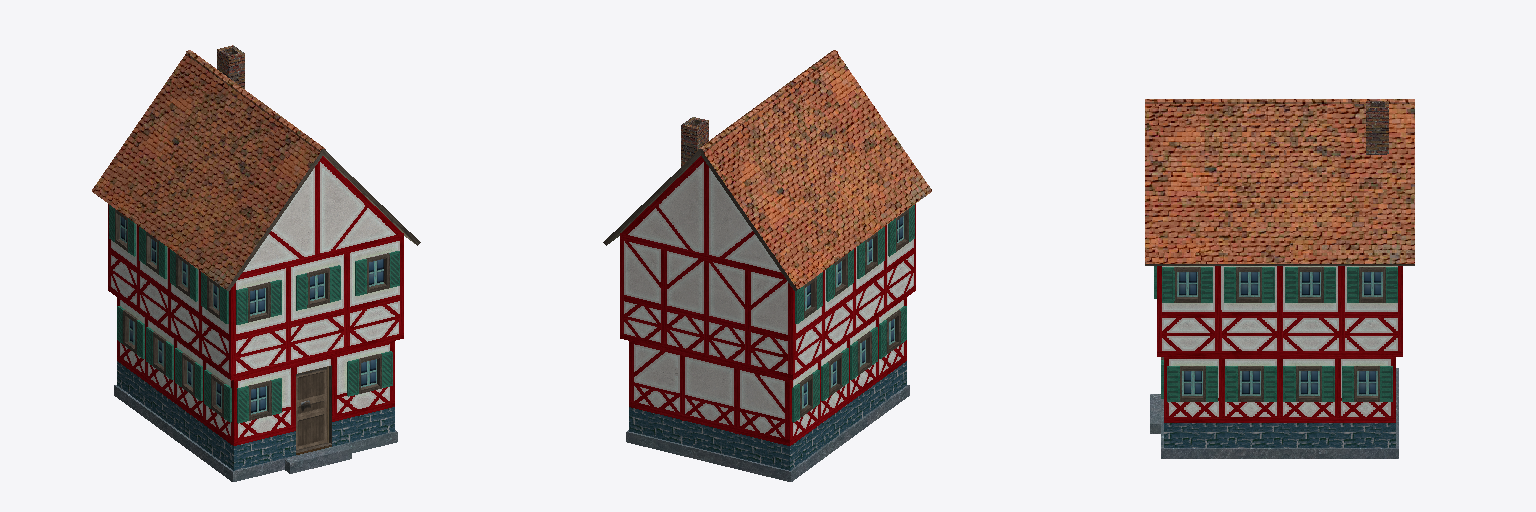
3 renders of one model, left to right at view 1: azimuth 30°, elevation 25°; view 2: azimuth 150°, elevation 25°; view 3: azimuth 270°, elevation 25°, orthographic.
Visible parts, largest first — view 1: NoName,1; view 2: NoName,1; view 3: NoName,1.
Boxes of the visible parts, box(x1,y1,x2,y2) form: NoName,1: box(92, 45, 420, 481); NoName,1: box(603, 50, 931, 481); NoName,1: box(1145, 99, 1414, 458).
Size of the model in its own units: 5 by 8 by 6.
1 materials, 1 textured.